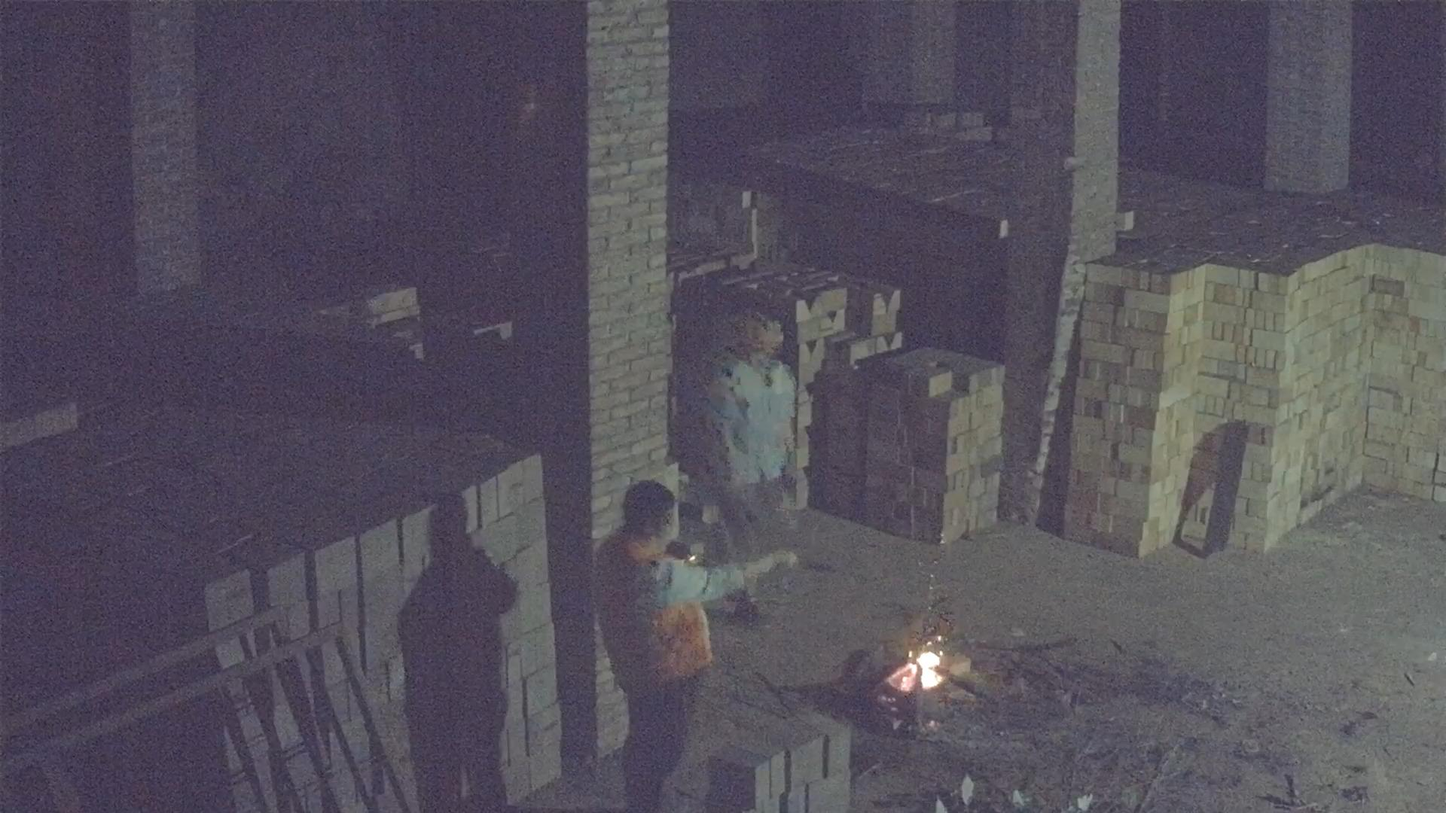fire: (886, 650, 944, 697)
